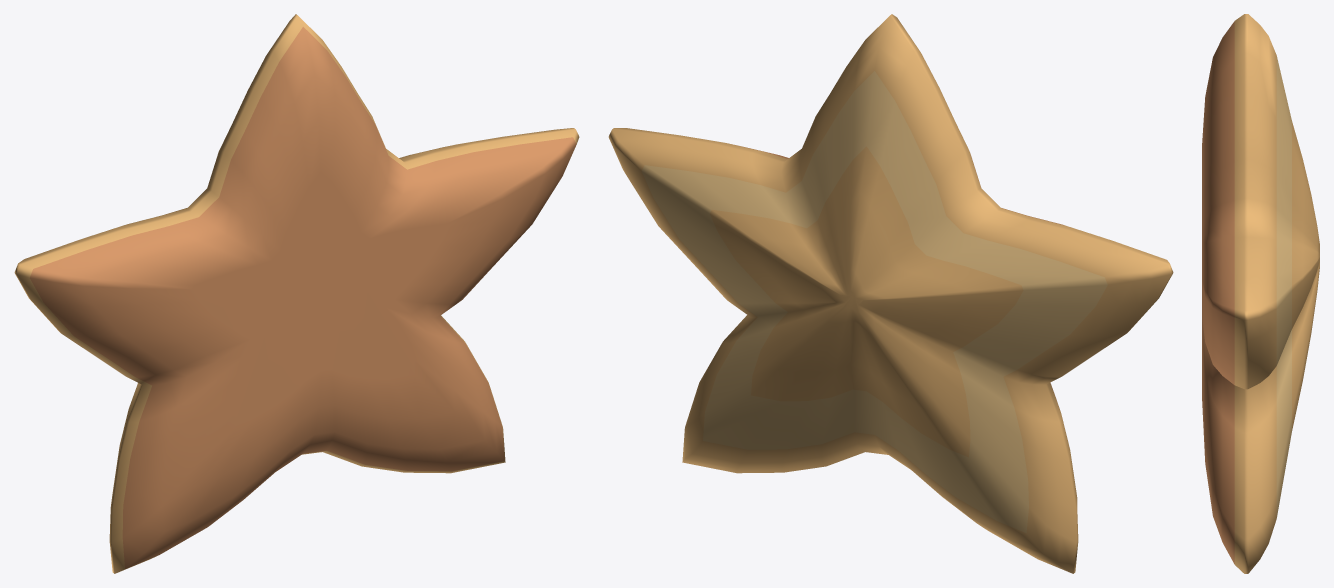
File: SM_Starfish.fbx
The picture shows the model from 3 angles, left to right: view 1: azimuth 30°, elevation 25°; view 2: azimuth 150°, elevation 25°; view 3: azimuth 270°, elevation 25°; orthographic projection. The views are drawn at different scales.
Visible parts, largest first — view 1: Starfish; view 2: Starfish; view 3: Starfish.
Boxes of the visible parts, left/top/right/bottom form: Starfish: left=14, top=14, right=579, bottom=573; Starfish: left=608, top=14, right=1173, bottom=573; Starfish: left=1202, top=14, right=1319, bottom=573.
Bounding box in the file's own units: 6.47 × 5.64 × 1.26.
1 material, 1 textured.
